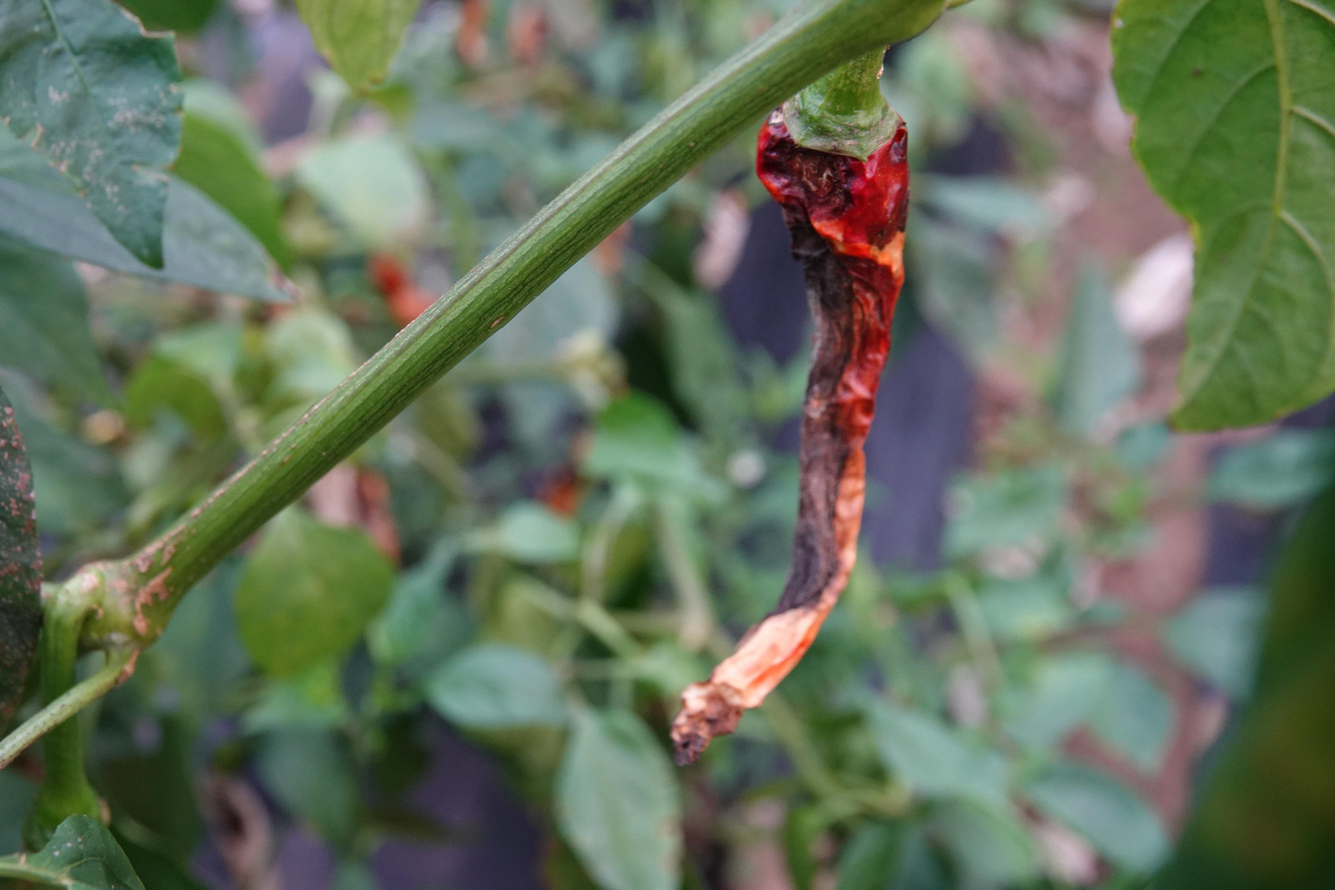Busuk Buah Antraknosa: (663, 93, 912, 769)
